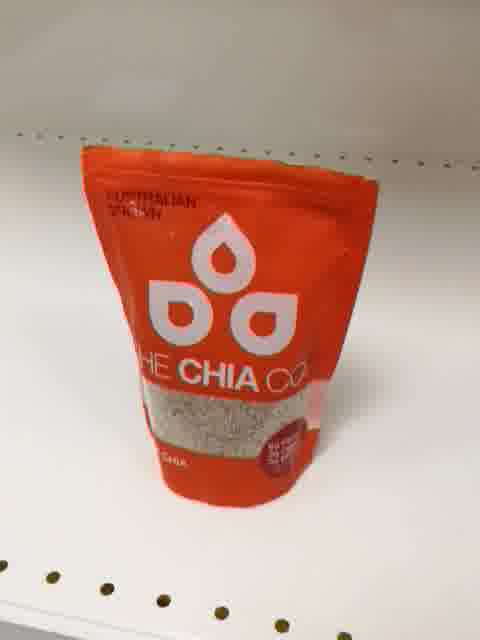whitechia: (77, 139, 380, 515)
